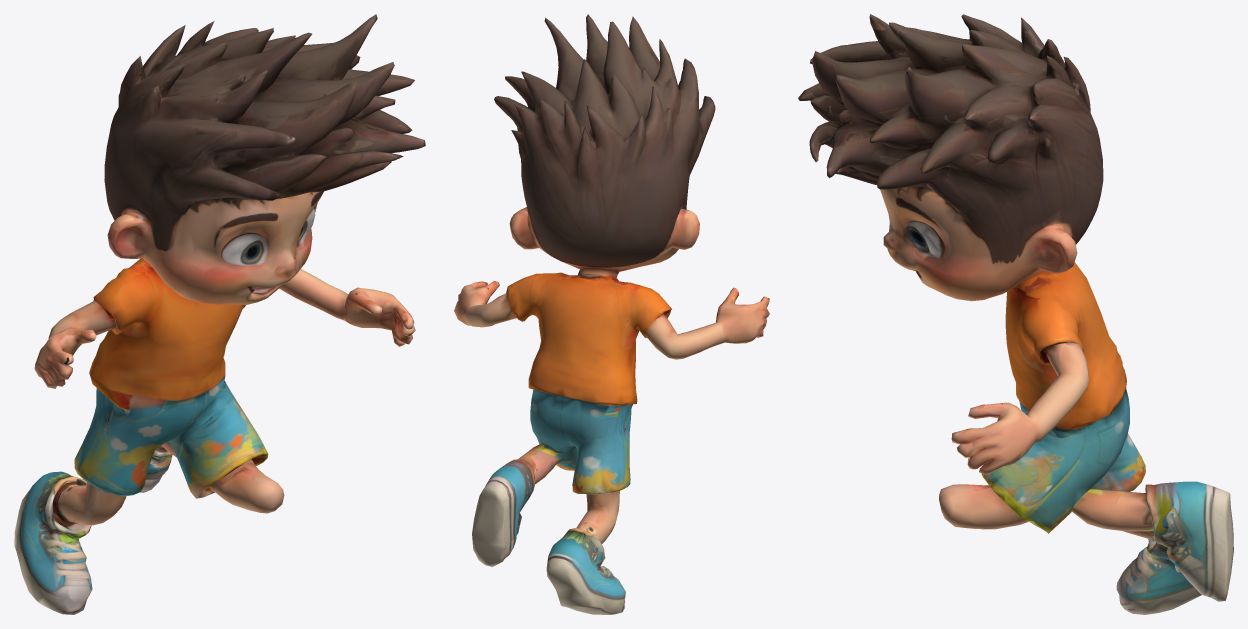
The picture shows the model from 3 angles, left to right: view 1: azimuth 30°, elevation 25°; view 2: azimuth 150°, elevation 25°; view 3: azimuth 270°, elevation 25°; orthographic projection. The views are drawn at different scales.
Bounding box in the file's own units: 1.23 × 2 × 1.23.
Materials: 1 (1 with a texture image).
